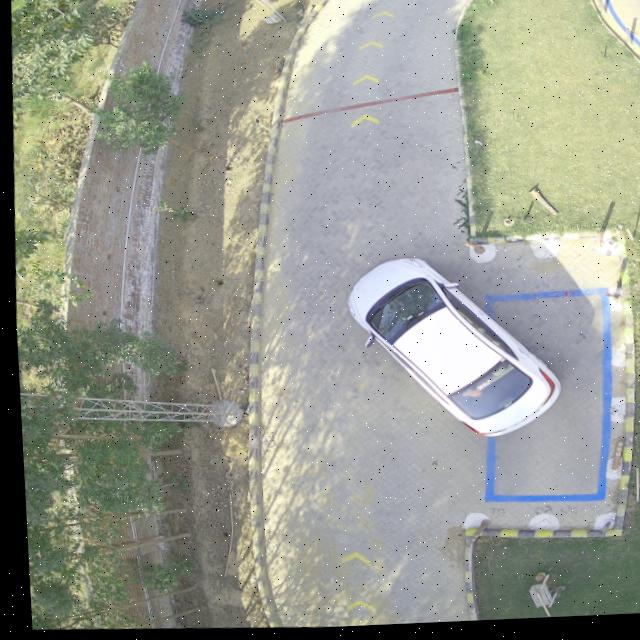car: (345, 260, 555, 440)
